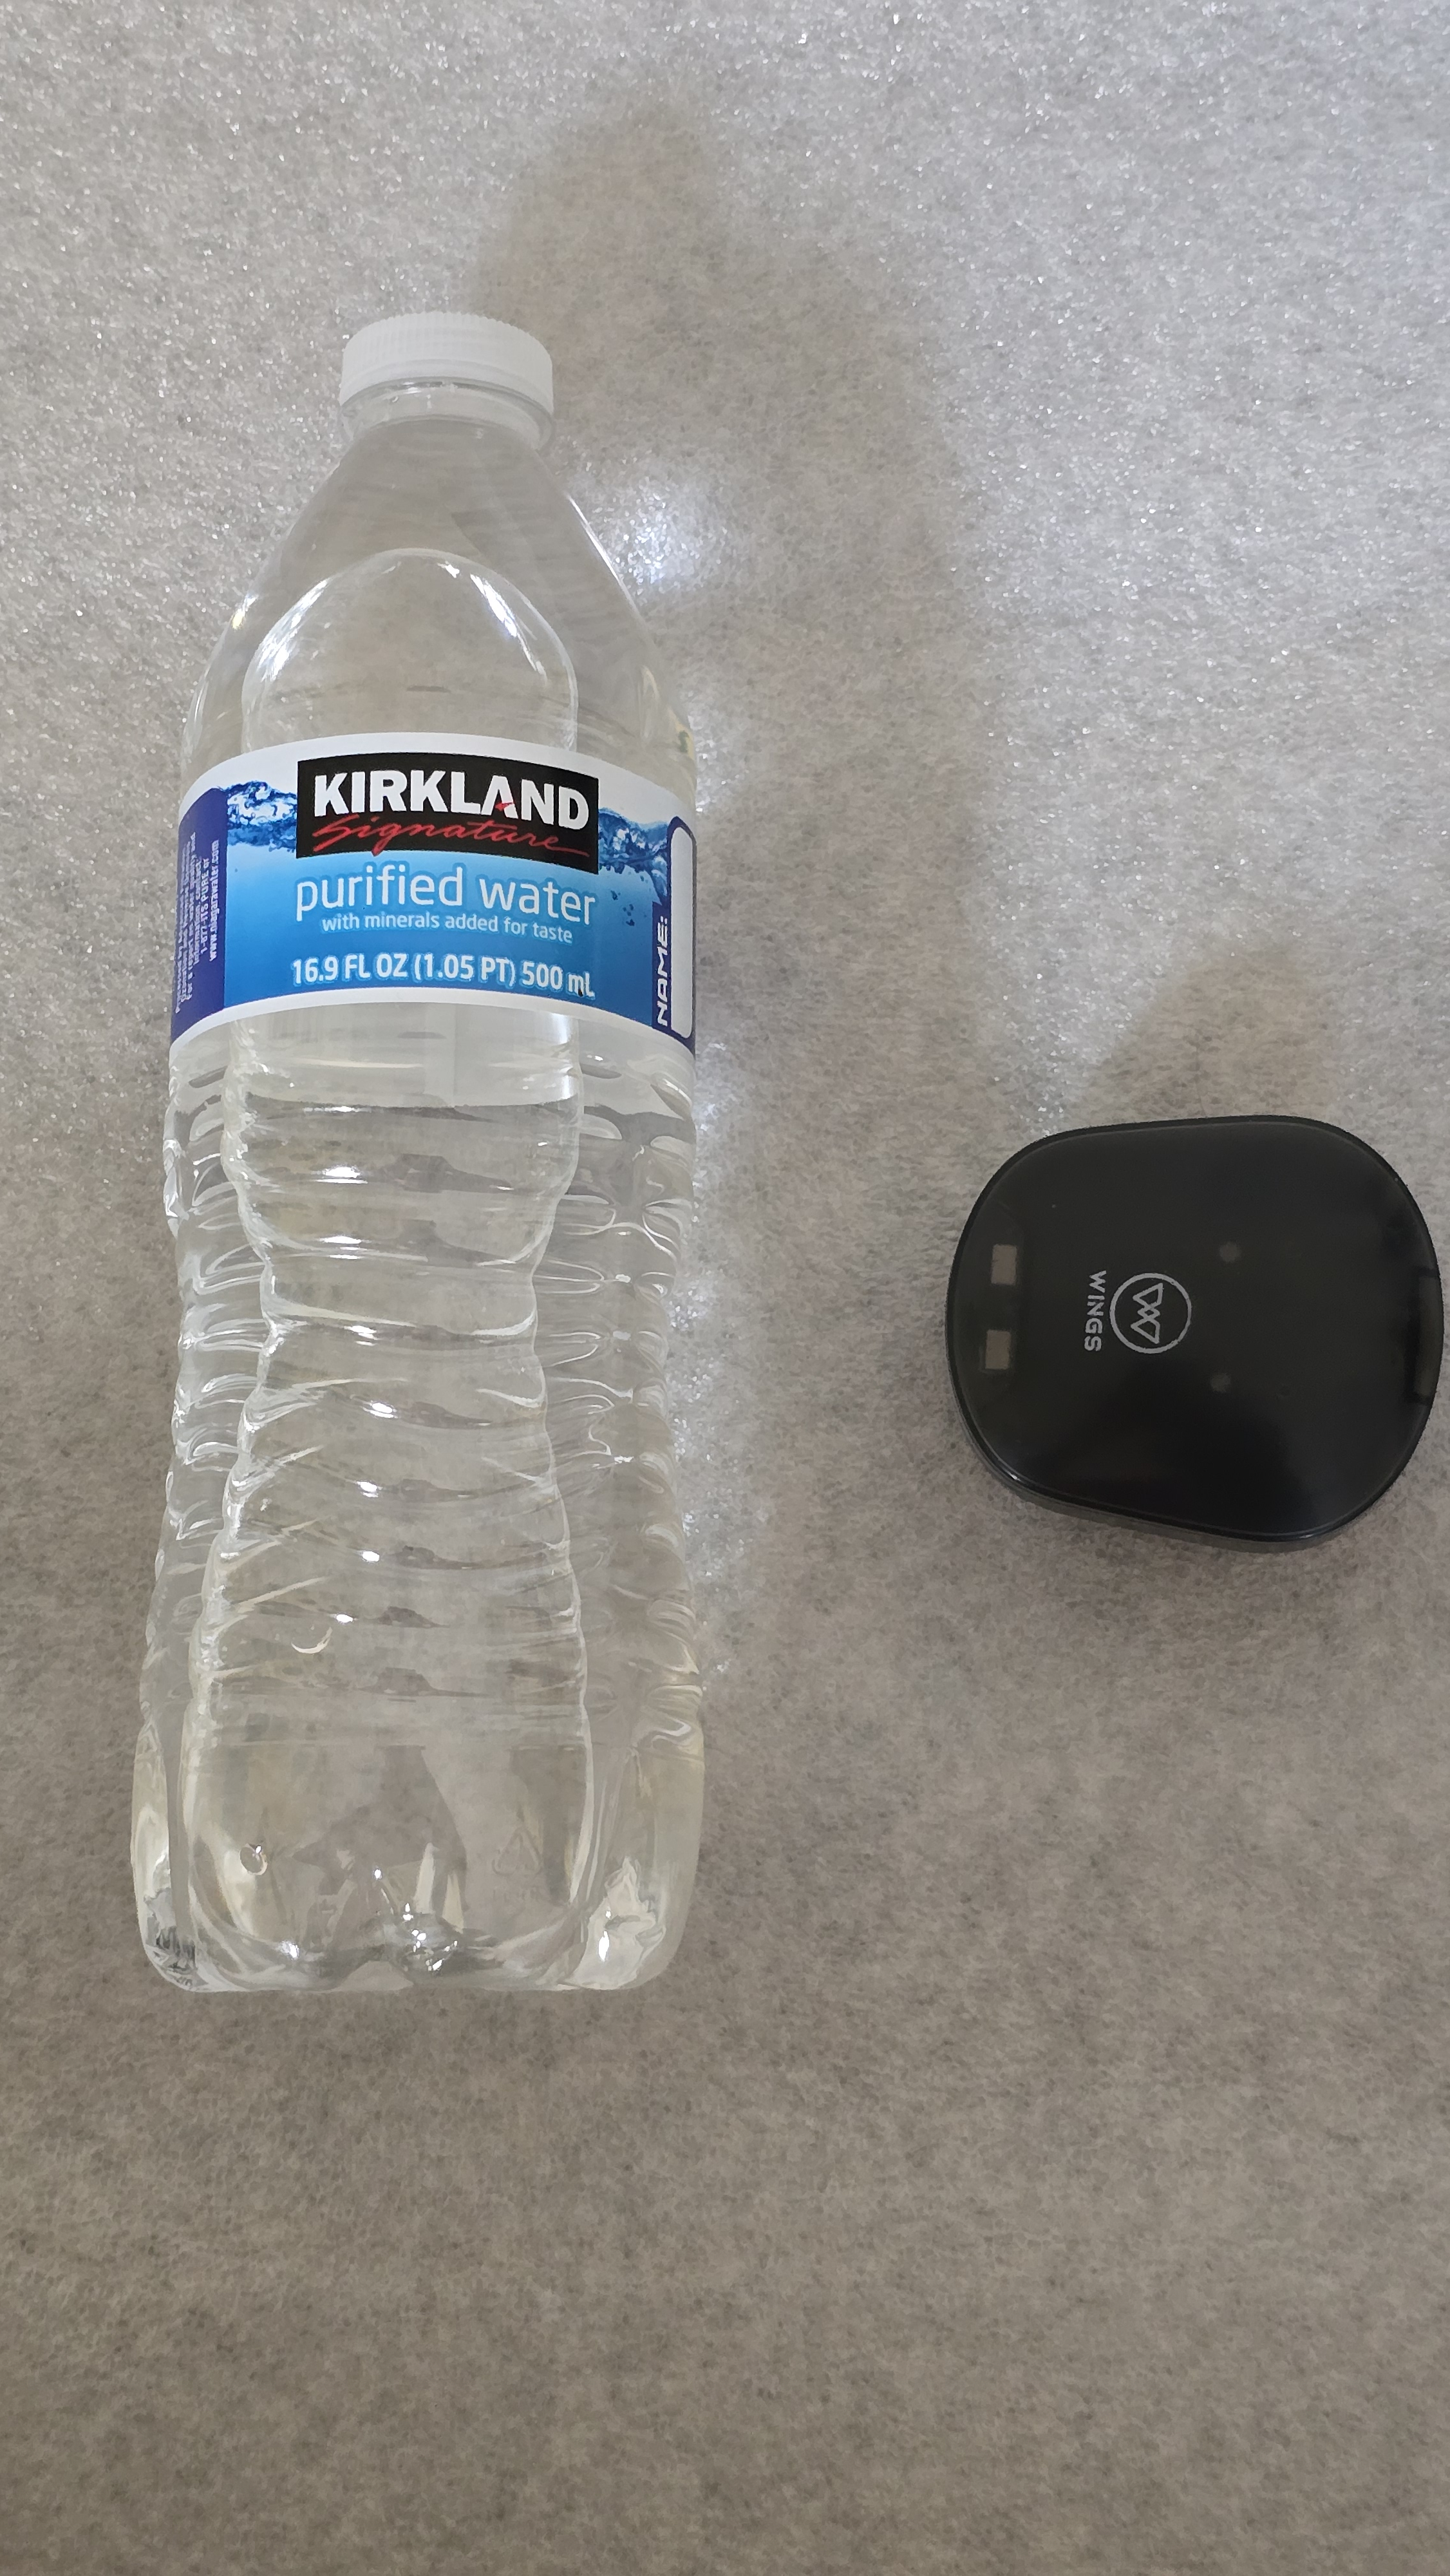bottle: (143, 251, 732, 2051)
